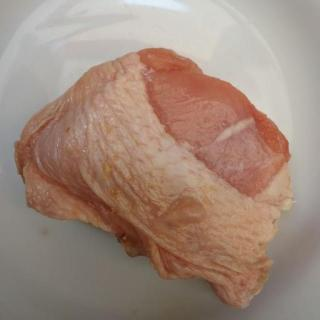Ayam: (14, 47, 298, 309)
